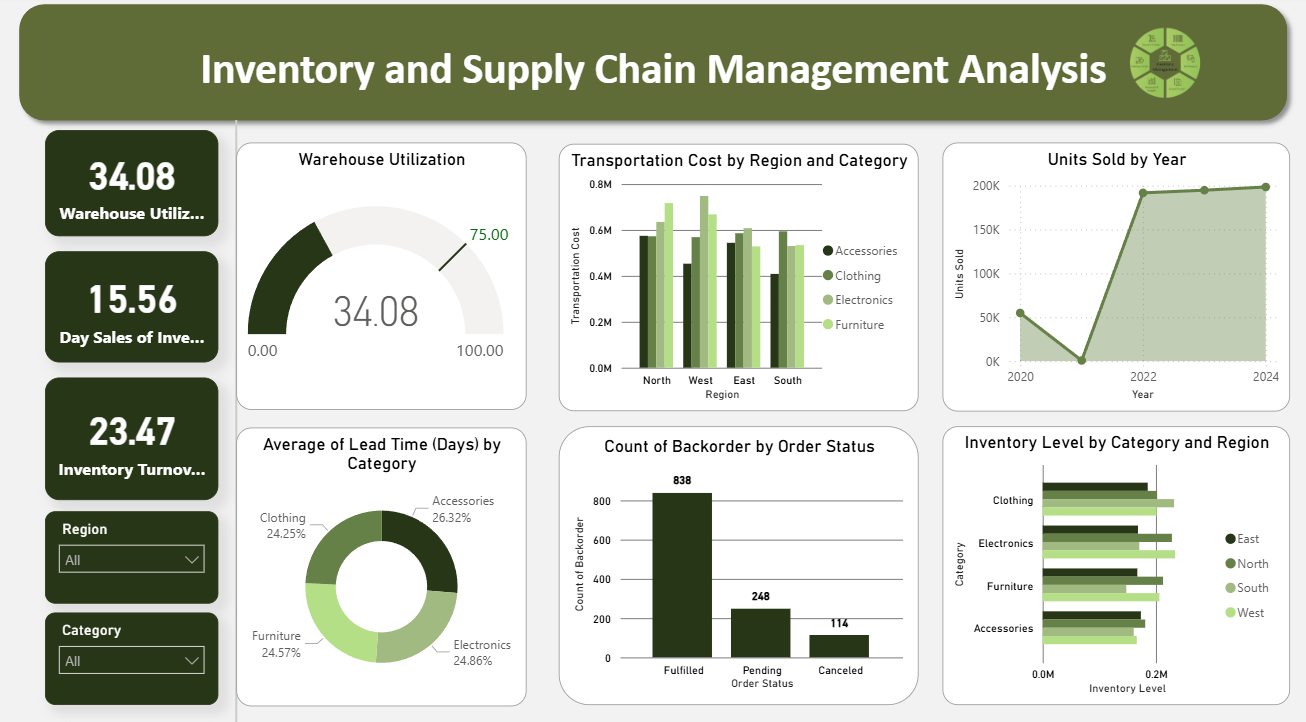

What the dashboard file says about the page in this screenshot:
{"tool":"powerbi","page":{"name":"Page 1","canvas":[1280,720],"ordinal":0},"visuals":[{"type":"shape","box":[9.6,0,1258.3,131.7],"z":0},{"type":"textbox","box":[186.6,39.8,904.3,81],"z":1000},{"type":"shape","box":[214,122.3,34.2,598],"z":2000},{"type":"image","box":[1071.7,11,137.2,111.1],"z":3000},{"type":"card","fields":{"Values":["Inventory and SupplyChain Dataset.Warehouse Utilization"]},"box":[44,132.1,170,103.9],"z":4000},{"type":"card","fields":{"Values":["Inventory and SupplyChain Dataset.Day Sales of Inventory"]},"box":[44,250.7,170,108.8],"z":5000},{"type":"card","fields":{"Values":["Inventory and SupplyChain Dataset.Inventory Turnover Ratio"]},"box":[44,374.2,170,119.8],"z":6000},{"type":"slicer","fields":{"Values":["Inventory and SupplyChain Dataset.Region"]},"box":[44,505,170,90.5],"z":7000},{"type":"slicer","fields":{"Values":["Inventory and SupplyChain Dataset.Category"]},"box":[44,604.1,170,90.5],"z":8000},{"type":"gauge","fields":{"Y":["Inventory and SupplyChain Dataset.Warehouse Utilization"]},"box":[231.1,144.3,283.7,261.7],"z":9000},{"type":"clusteredColumnChart","fields":{"Y":["Sum(Inventory and SupplyChain Dataset.Transportation Cost)"],"Category":["Inventory and SupplyChain Dataset.Region"],"Series":["Inventory and SupplyChain Dataset.Category"]},"box":[546.6,145.5,352.2,261.7],"z":10000},{"type":"lineChart","fields":{"Y":["Sum(Inventory and SupplyChain Dataset.Units Sold)"],"Category":["Inventory and SupplyChain Dataset.Date.Variation.Date Hierarchy.Year"]},"box":[922,144,340,263],"z":11000},{"type":"donutChart","fields":{"Y":["Avg(Inventory and SupplyChain Dataset.Lead Time (Days))"],"Category":["Inventory and SupplyChain Dataset.Category"]},"box":[231.1,423.1,283.7,272.7],"z":12000},{"type":"columnChart","fields":{"Y":["CountNonNull(Inventory and SupplyChain Dataset.Backorder)"],"Category":["Inventory and SupplyChain Dataset.Order Status"]},"box":[546.6,421.9,352.2,272.7],"z":13000},{"type":"clusteredBarChart","fields":{"Category":["Inventory and SupplyChain Dataset.Category"],"Series":["Inventory and SupplyChain Dataset.Region"],"Y":["Sum(Inventory and SupplyChain Dataset.Inventory Level)"]},"box":[922,422,340,273],"z":13001}]}

Visuals, with their boxes in screenshot pixels (x1, y1, x2, y2), scaled from the page's 1280x720 canvas onto the 1306x722 screenshot:
shape: (x1=10, y1=0, x2=1294, y2=132)
textbox: (x1=190, y1=40, x2=1113, y2=121)
shape: (x1=218, y1=123, x2=253, y2=721)
image: (x1=1093, y1=11, x2=1233, y2=122)
card - Inventory and SupplyChain Dataset.Warehouse Utilization: (x1=45, y1=132, x2=218, y2=237)
card - Inventory and SupplyChain Dataset.Day Sales of Inventory: (x1=45, y1=251, x2=218, y2=360)
card - Inventory and SupplyChain Dataset.Inventory Turnover Ratio: (x1=45, y1=375, x2=218, y2=495)
slicer - Inventory and SupplyChain Dataset.Region: (x1=45, y1=506, x2=218, y2=597)
slicer - Inventory and SupplyChain Dataset.Category: (x1=45, y1=606, x2=218, y2=697)
gauge - Inventory and SupplyChain Dataset.Warehouse Utilization: (x1=236, y1=145, x2=525, y2=407)
clusteredColumnChart - Sum(Inventory and SupplyChain Dataset.Transportation Cost) x Inventory and SupplyChain Dataset.Region: (x1=558, y1=146, x2=917, y2=408)
lineChart - Sum(Inventory and SupplyChain Dataset.Units Sold) x Inventory and SupplyChain Dataset.Date.Variation.Date Hierarchy.Year: (x1=941, y1=144, x2=1288, y2=408)
donutChart - Avg(Inventory and SupplyChain Dataset.Lead Time (Days)) x Inventory and SupplyChain Dataset.Category: (x1=236, y1=424, x2=525, y2=698)
columnChart - CountNonNull(Inventory and SupplyChain Dataset.Backorder) x Inventory and SupplyChain Dataset.Order Status: (x1=558, y1=423, x2=917, y2=697)
clusteredBarChart - Inventory and SupplyChain Dataset.Category x Inventory and SupplyChain Dataset.Region: (x1=941, y1=423, x2=1288, y2=697)
